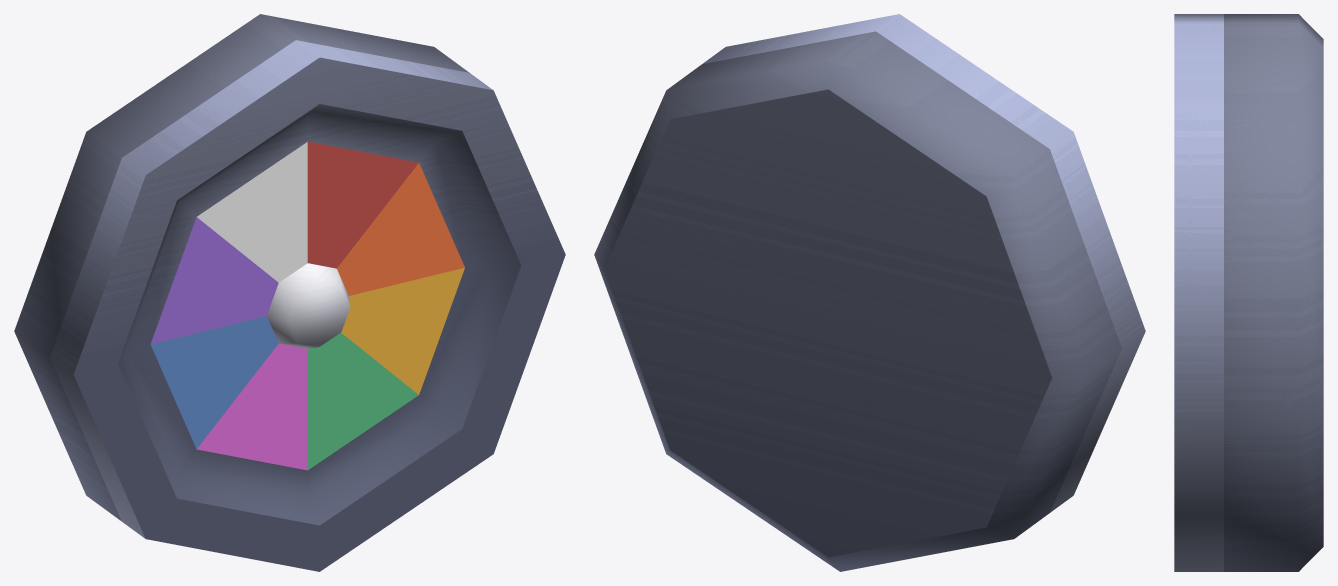
The model's file is rotate-z.002_lev2.glb.
3 renders of one model, left to right at view 1: azimuth 30°, elevation 25°; view 2: azimuth 150°, elevation 25°; view 3: azimuth 270°, elevation 25°, orthographic. The views are drawn at different scales.
Visible parts, largest first — view 1: rotate-z.002_lev2; view 2: rotate-z.002_lev2; view 3: rotate-z.002_lev2.
Part boxes in pixels (box(x1,y1,x2,y2)): rotate-z.002_lev2: box(14, 14, 565, 571); rotate-z.002_lev2: box(594, 14, 1145, 571); rotate-z.002_lev2: box(1174, 14, 1323, 571).
Size of the model in its own units: 2.41 by 2.41 by 0.6049.
Materials: 1 (1 with a texture image).
